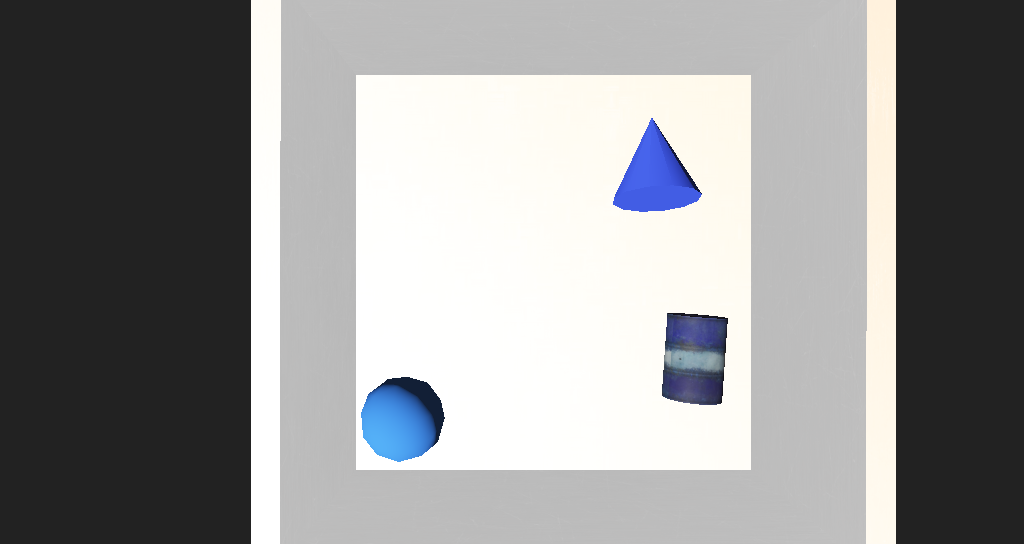cone: (586, 291, 640, 339)
cylinder: (542, 172, 630, 239)
sphere: (357, 327, 424, 370)
